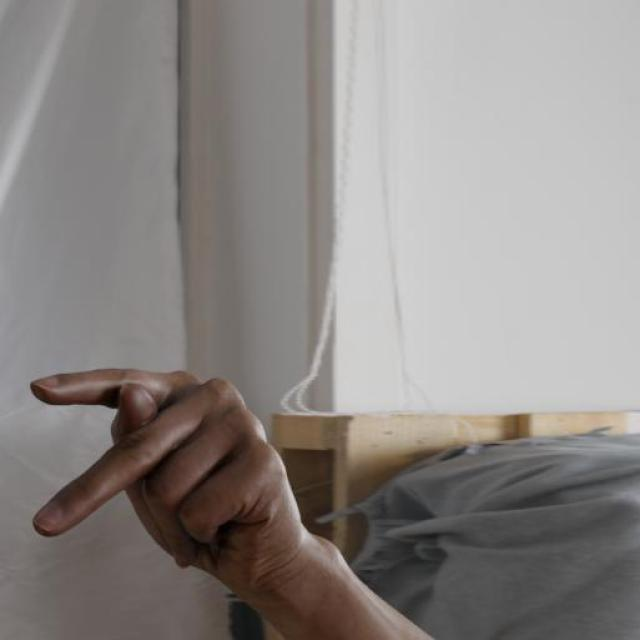P: (29, 366, 304, 590)
